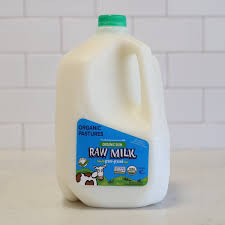milk: (58, 14, 177, 209)
